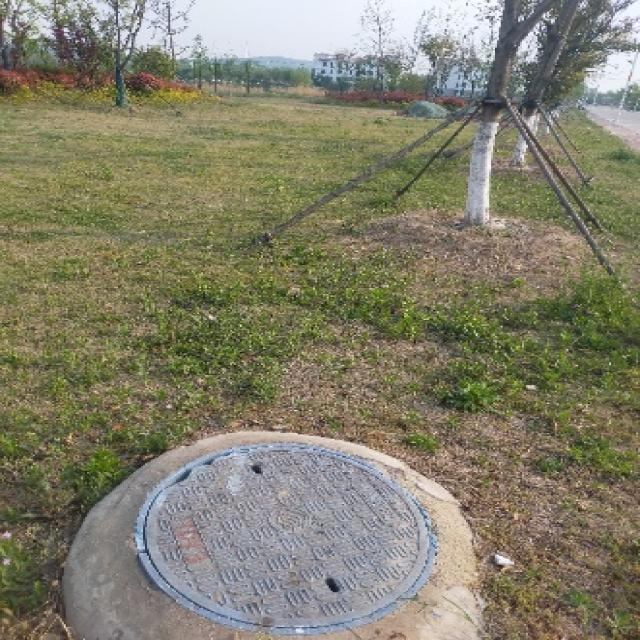Good: (116, 423, 454, 640)
